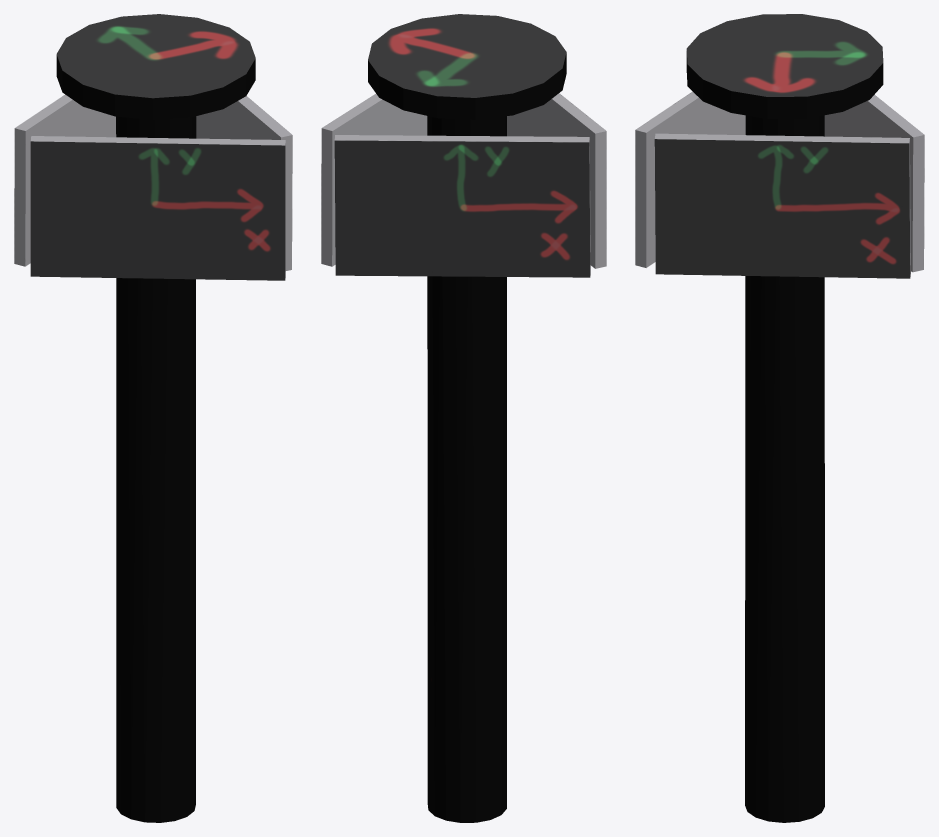
File: Banner.dae
The picture shows the model from 3 angles, left to right: view 1: azimuth 30°, elevation 25°; view 2: azimuth 150°, elevation 25°; view 3: azimuth 270°, elevation 25°; orthographic projection.
Visible parts, largest first — view 1: Banner; view 2: Banner; view 3: Banner.
Boxes of the visible parts, <box> form: Banner: <box>14,14,292,822</box>; Banner: <box>321,14,606,822</box>; Banner: <box>635,14,924,822</box>.
Bounding box in the file's own units: 0.6541 × 0.7533 × 2.15.
Materials: 1 (1 with a texture image).
